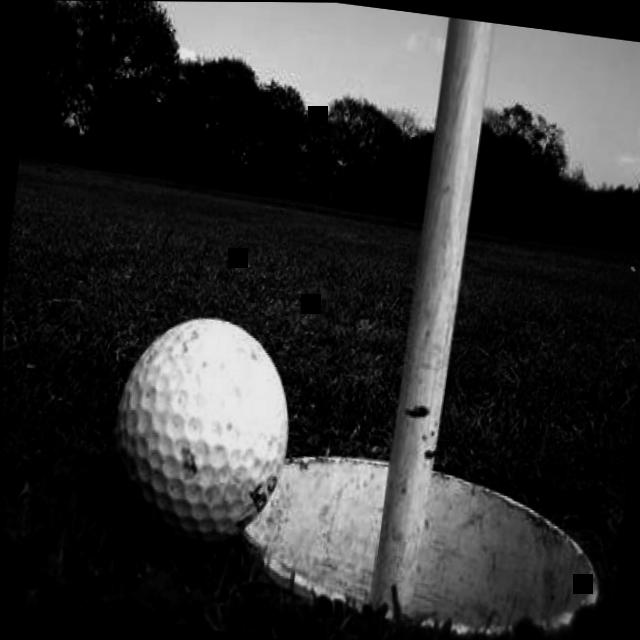golf ball: (95, 292, 306, 559)
